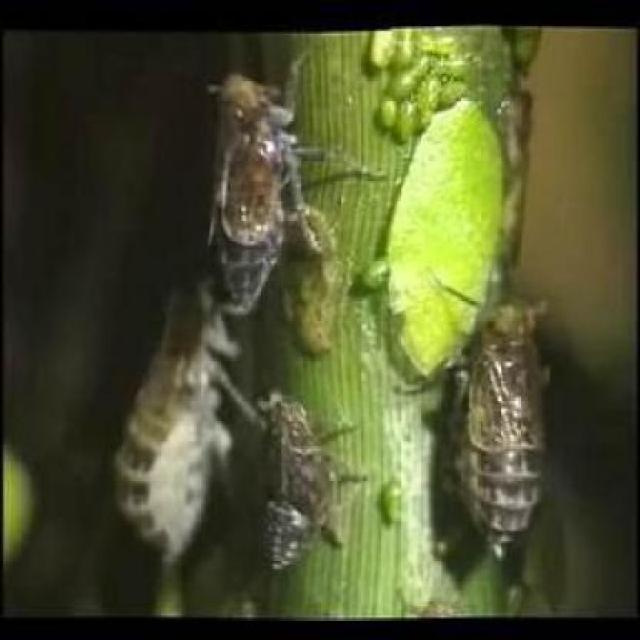brown-planthopper: (116, 275, 230, 559), (456, 293, 554, 556), (210, 72, 298, 310), (259, 388, 333, 570)
